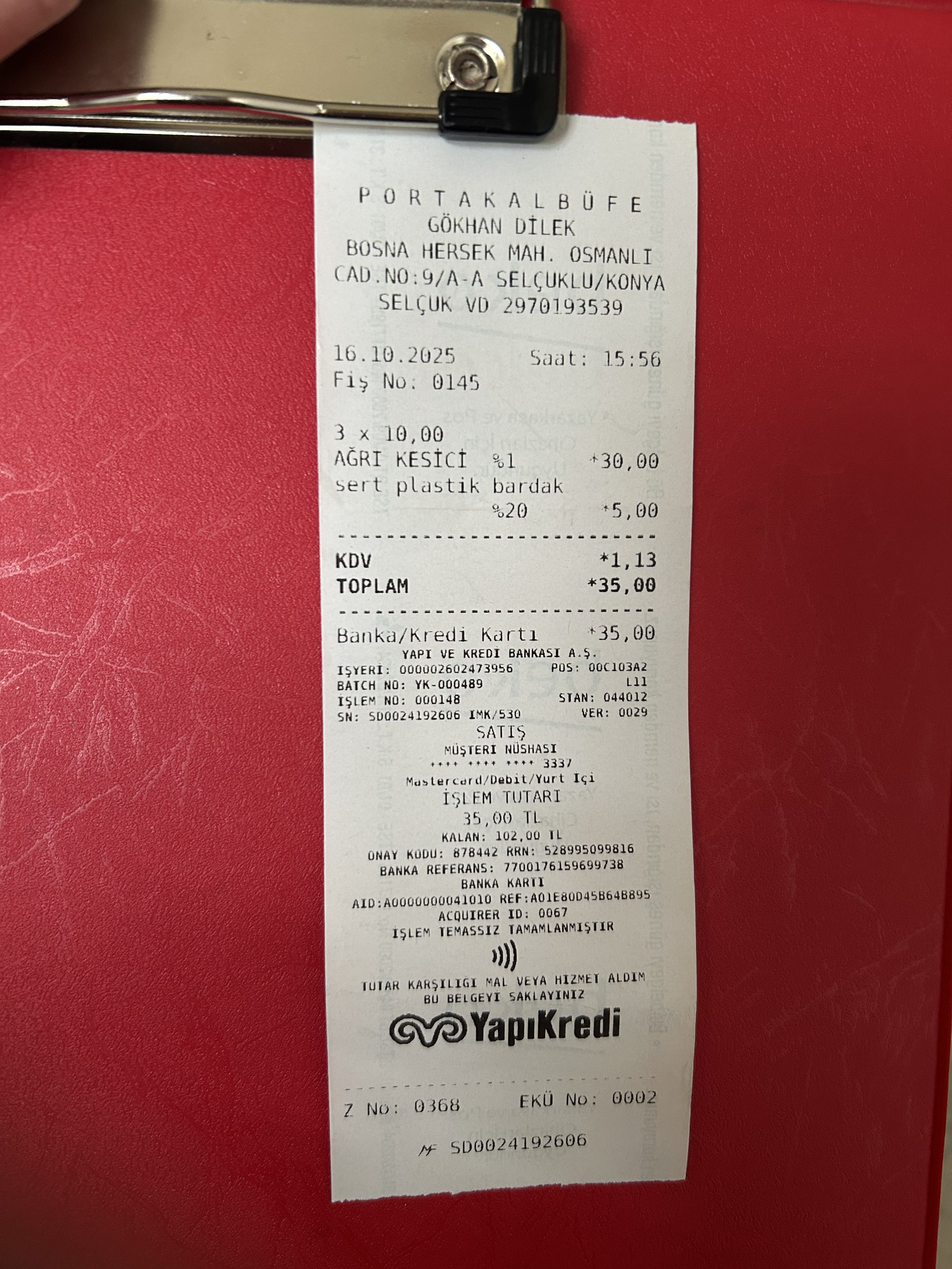date: (329, 340, 458, 368)
price: (595, 570, 660, 601)
workplace: (328, 178, 676, 295)
